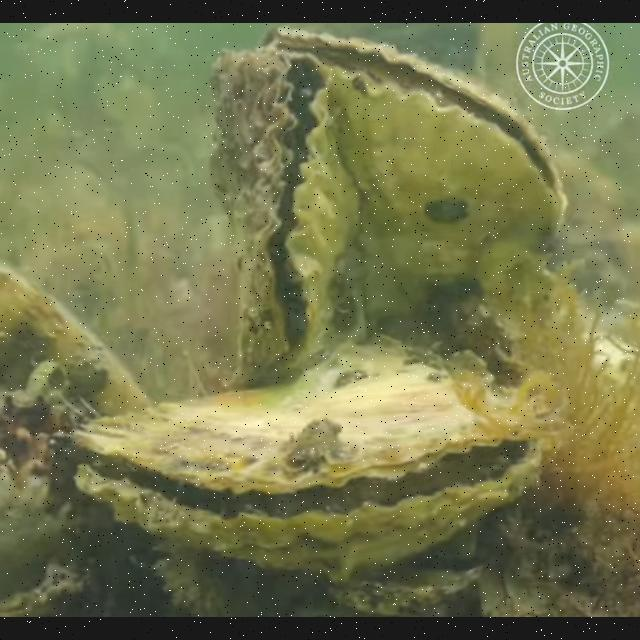Oyster-Closed: (0, 266, 154, 438)
Oyster-Open: (69, 336, 544, 586), (262, 27, 568, 349), (207, 47, 361, 393)
